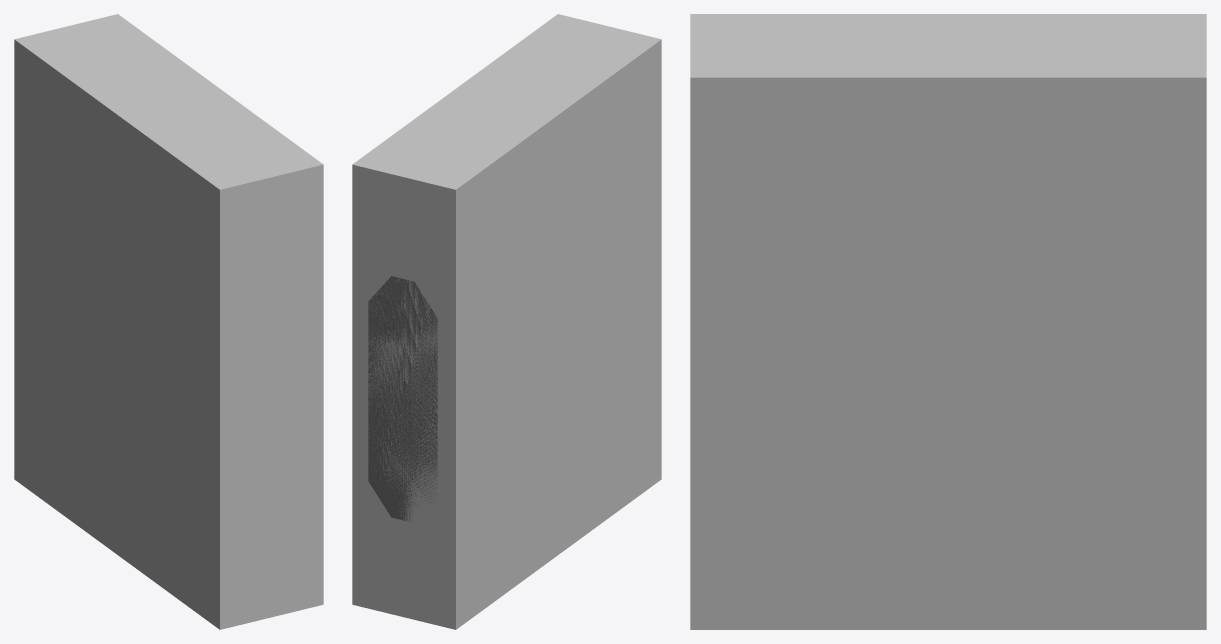
Rendered from SM_Billboard_16.fbx.
3 renders of one model, left to right at view 1: azimuth 30°, elevation 25°; view 2: azimuth 150°, elevation 25°; view 3: azimuth 270°, elevation 25°, orthographic. The views are drawn at different scales.
Parts seen in each view (by area): view 1: SM_Billboard_16_ConvexHulls; view 2: SM_Billboard_16_ConvexHulls, SM_Billboard_16; view 3: SM_Billboard_16_ConvexHulls.
Part boxes in pixels (x1,y1,x2,y2): SM_Billboard_16_ConvexHulls: (14, 14, 323, 629); SM_Billboard_16_ConvexHulls: (352, 14, 661, 629); SM_Billboard_16: (368, 276, 437, 521); SM_Billboard_16_ConvexHulls: (690, 14, 1206, 629).
Size of the model in its own units: 89.83 by 309 by 364.
2 materials, 1 textured.
